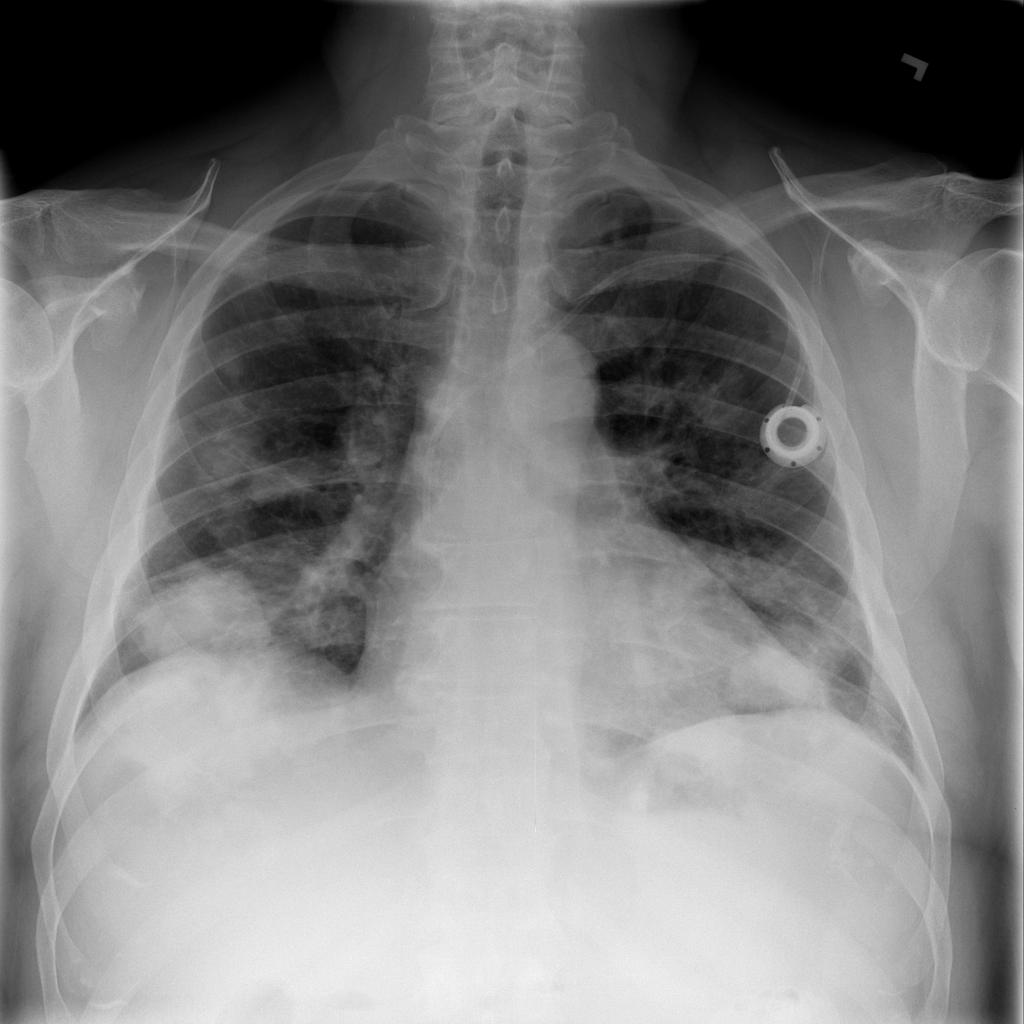nodule: (109, 562, 281, 691), (706, 619, 864, 733), (185, 425, 265, 497), (205, 335, 259, 386)
